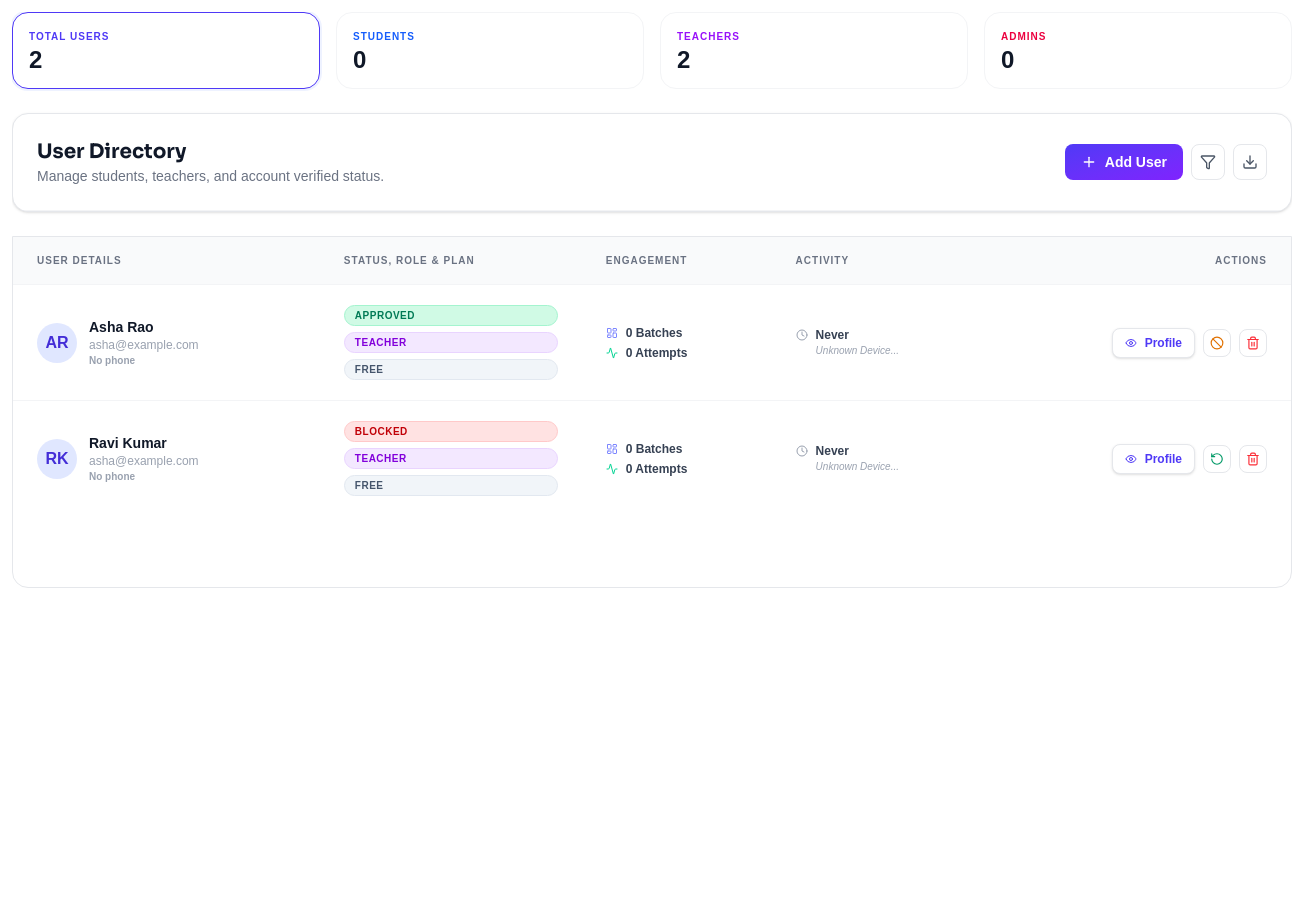
Test: UserDirectoryTable: deleting and blocking › explains a refused delete and blocks the account from there instead
Click the button named "Delete Asha Rao" at coordinates (1253, 342), box [1239,328,1267,356]
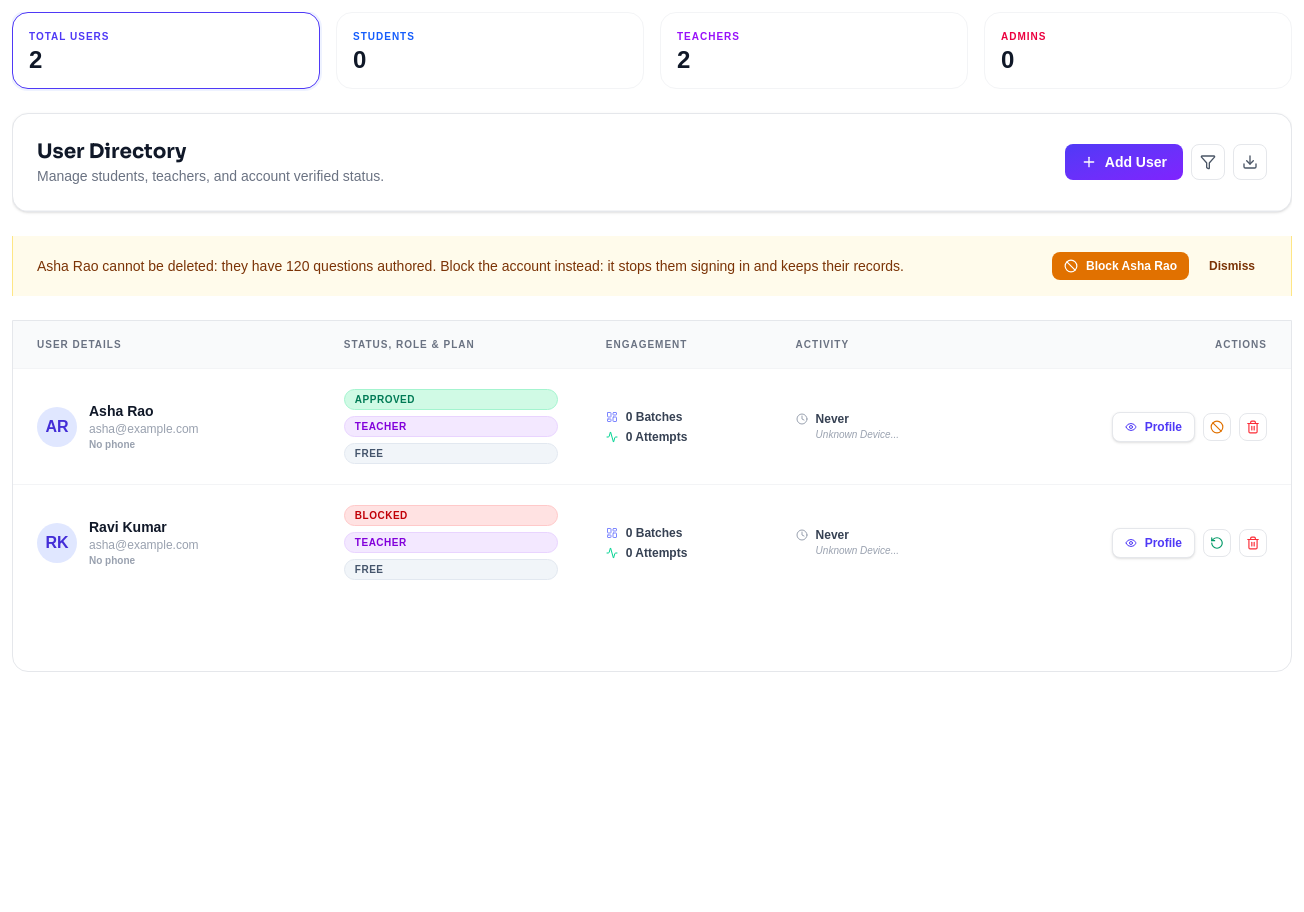
Result: the message shows "120 questions authored" at [37,258,904,274]
Click the button "Block Asha Rao" at coordinates (1120, 266), box [1052,252,1189,280]
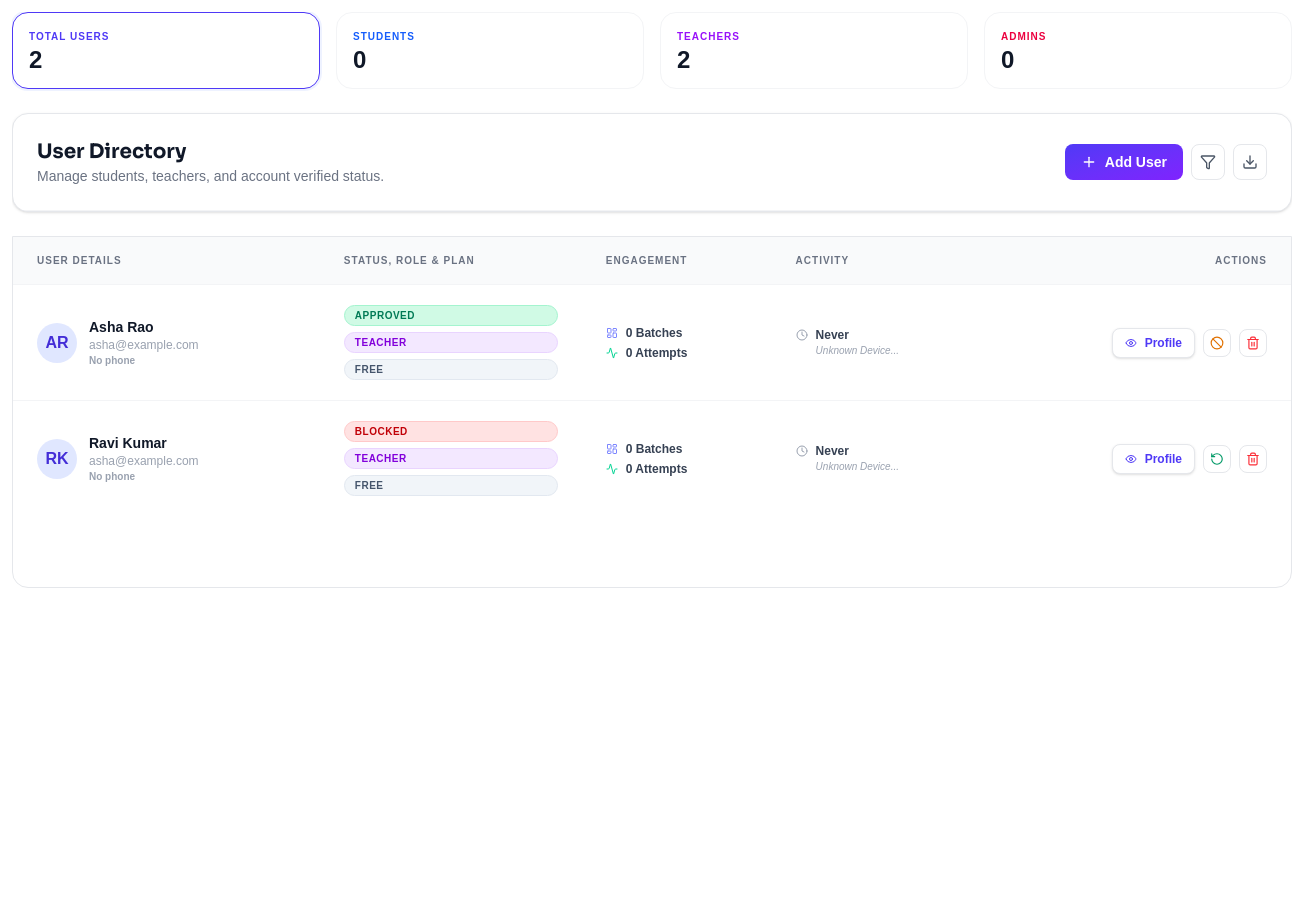
Result: the message "Asha Rao cannot be deleted: they have 120 questions authored. Block the account" is gone
